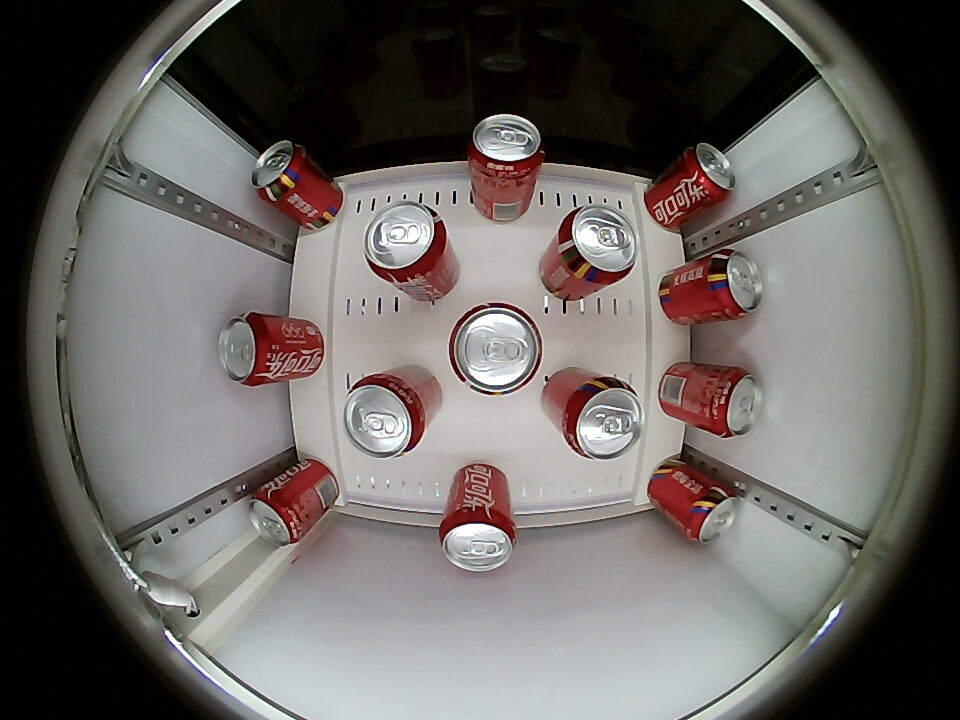kele: (447, 301, 545, 396), (342, 373, 429, 459), (363, 201, 449, 285), (561, 377, 644, 461), (553, 204, 639, 285), (439, 507, 516, 573), (468, 114, 544, 179), (704, 249, 764, 321), (218, 312, 276, 386), (708, 367, 763, 438), (251, 139, 310, 203), (248, 485, 306, 546), (684, 482, 740, 545), (682, 142, 736, 204)
